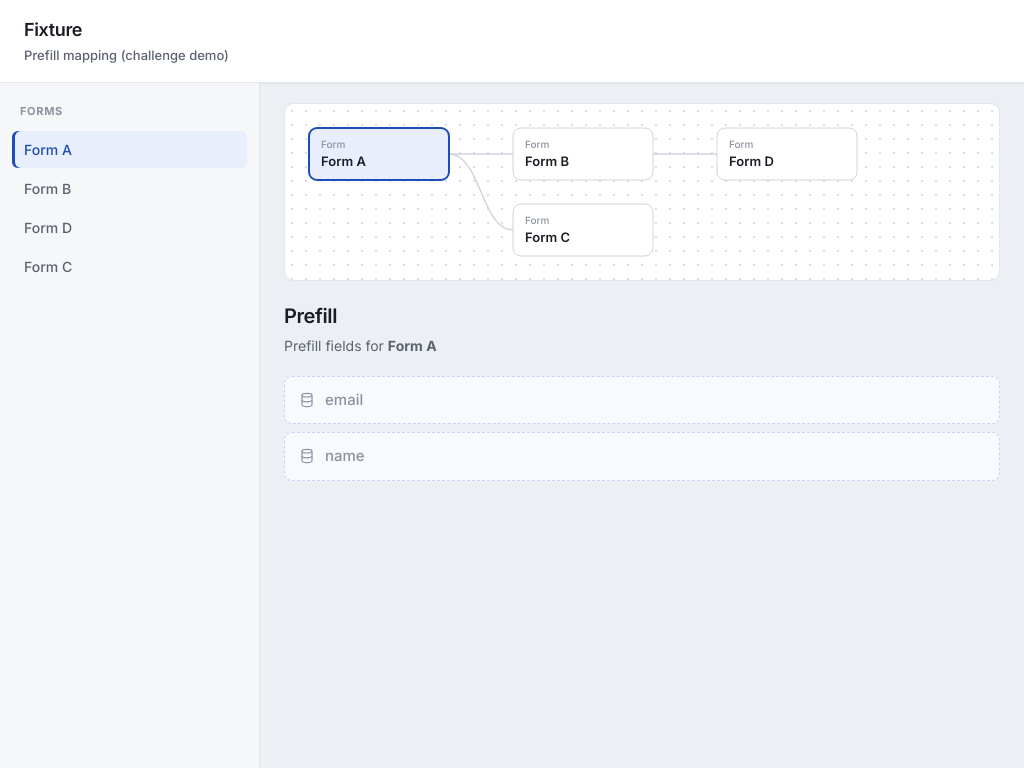
Test: App › sets and clears a prefill mapping via modal
Expected: the heading "Fixture" is shown, [24, 19, 82, 40]
Click the button "Form D": (130, 228) [12, 209, 247, 246]
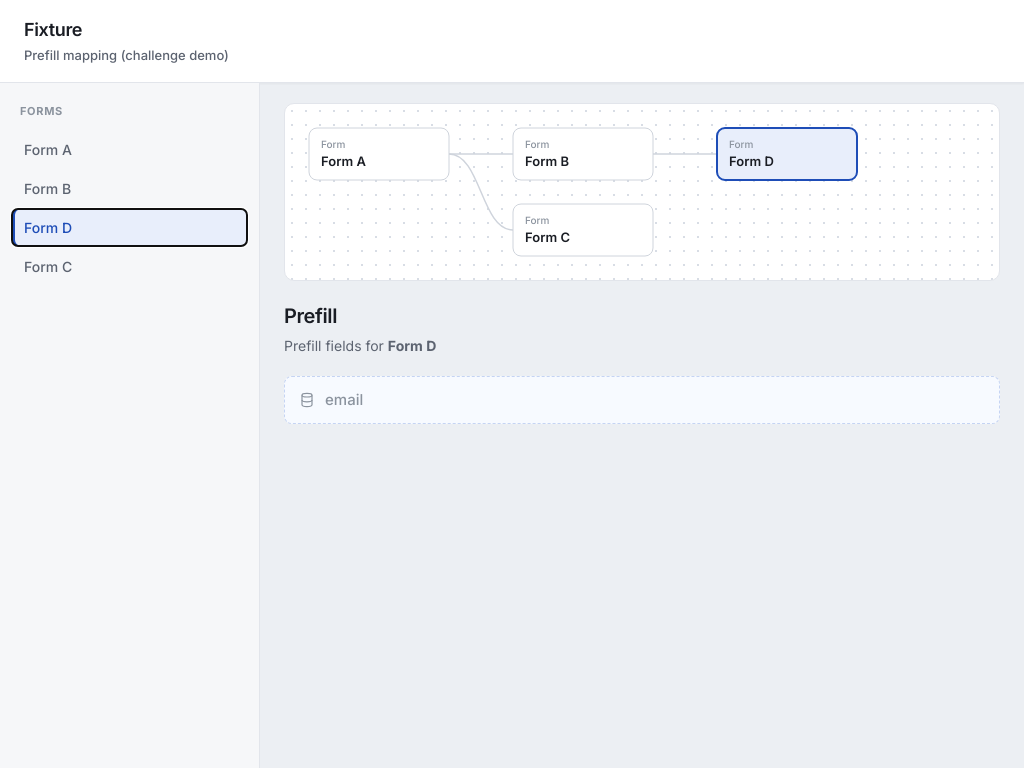
// Click the empty field row to open the modal.
Click the button with aria-label "Set prefill mapping for": (344, 399) [285, 377, 999, 423]
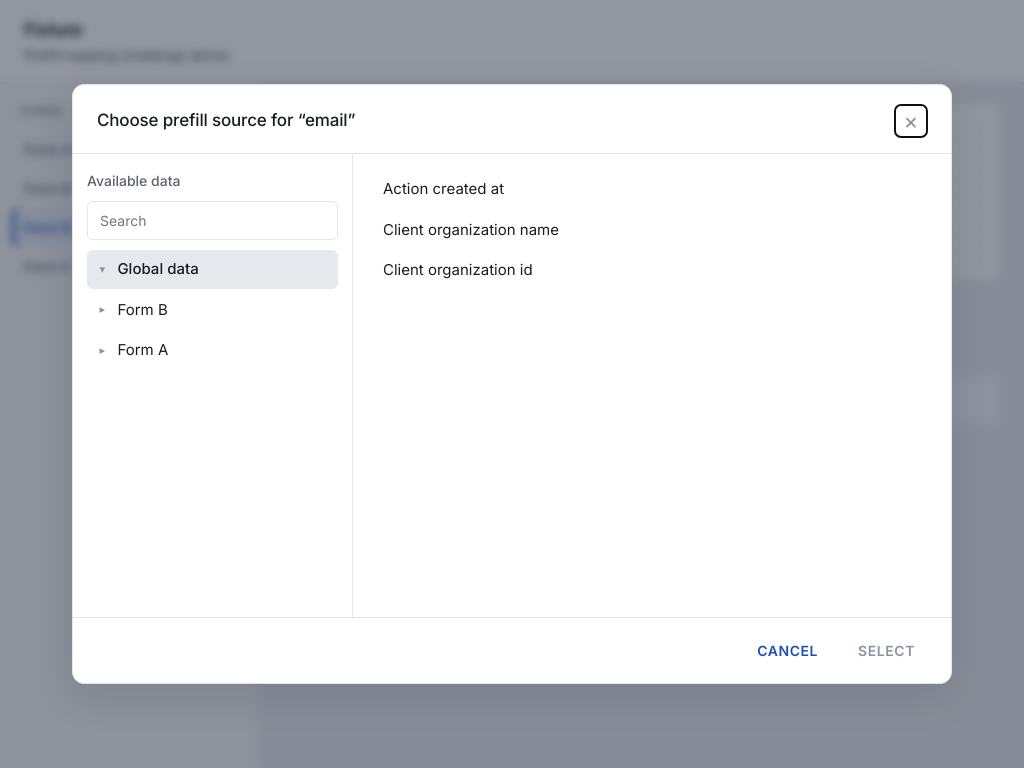
Expected: the dialog is shown
// Pick "Form A" category on the left.
Click the button "▸ Form A": (212, 350) [87, 331, 338, 370]
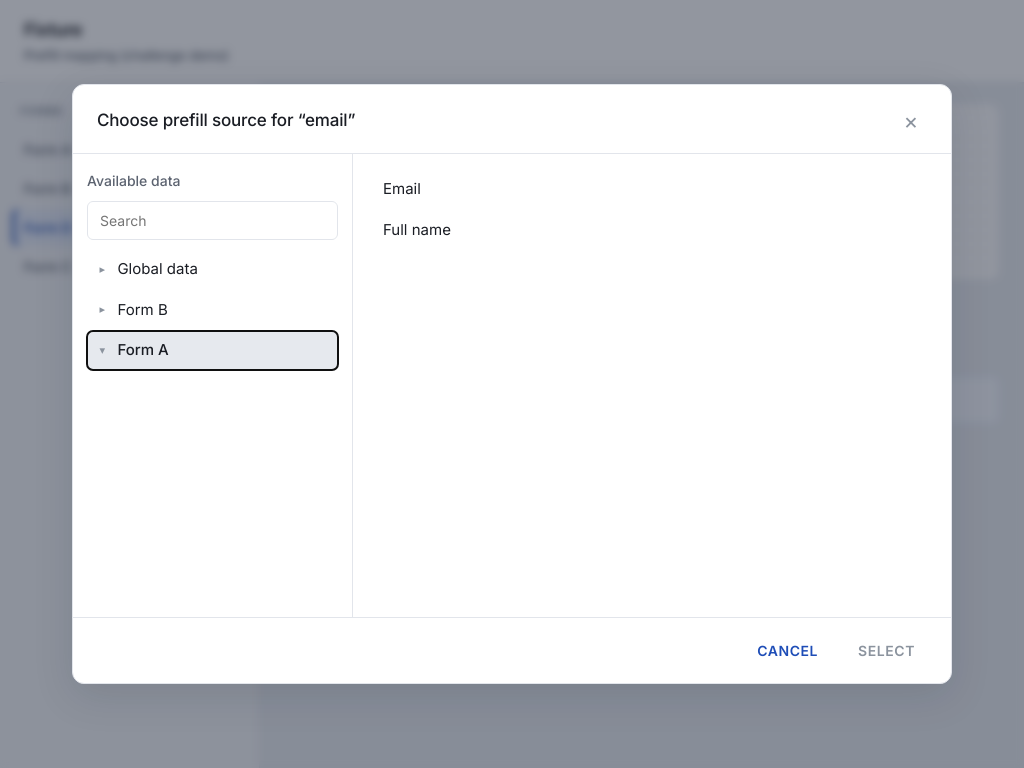
// Pick the email option on the right.
Click the button with aria-label "Form A / Email": (402, 188) [373, 170, 931, 208]
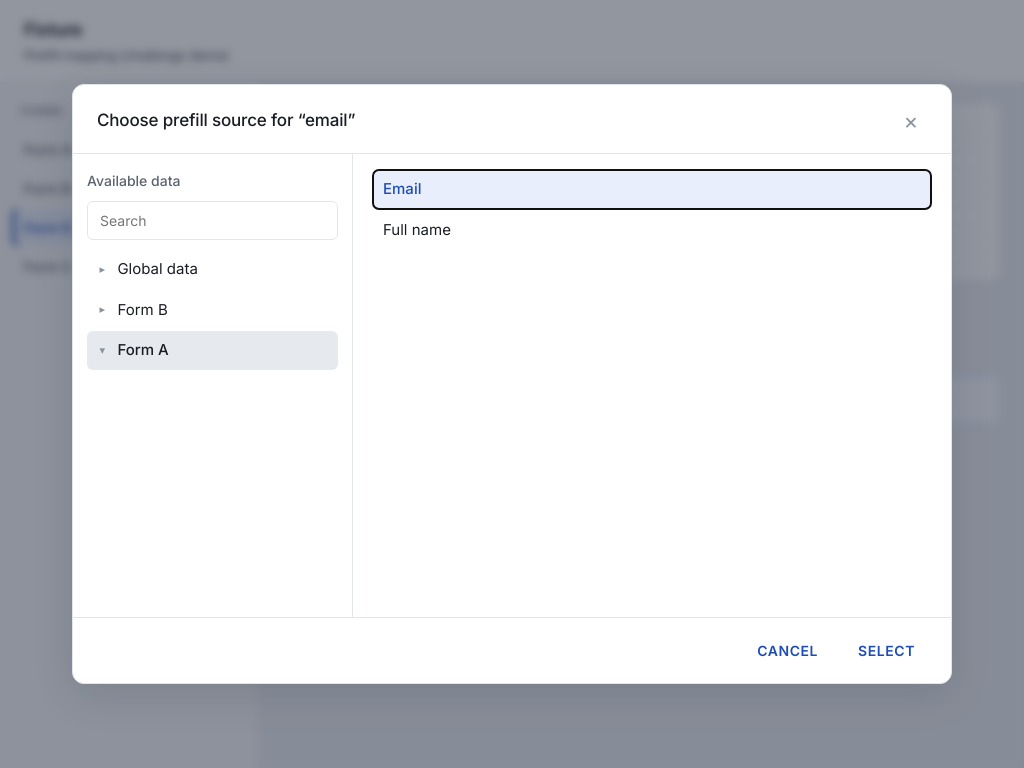
// Confirm with SELECT.
Click the button "SELECT": (887, 650) [842, 632, 931, 669]
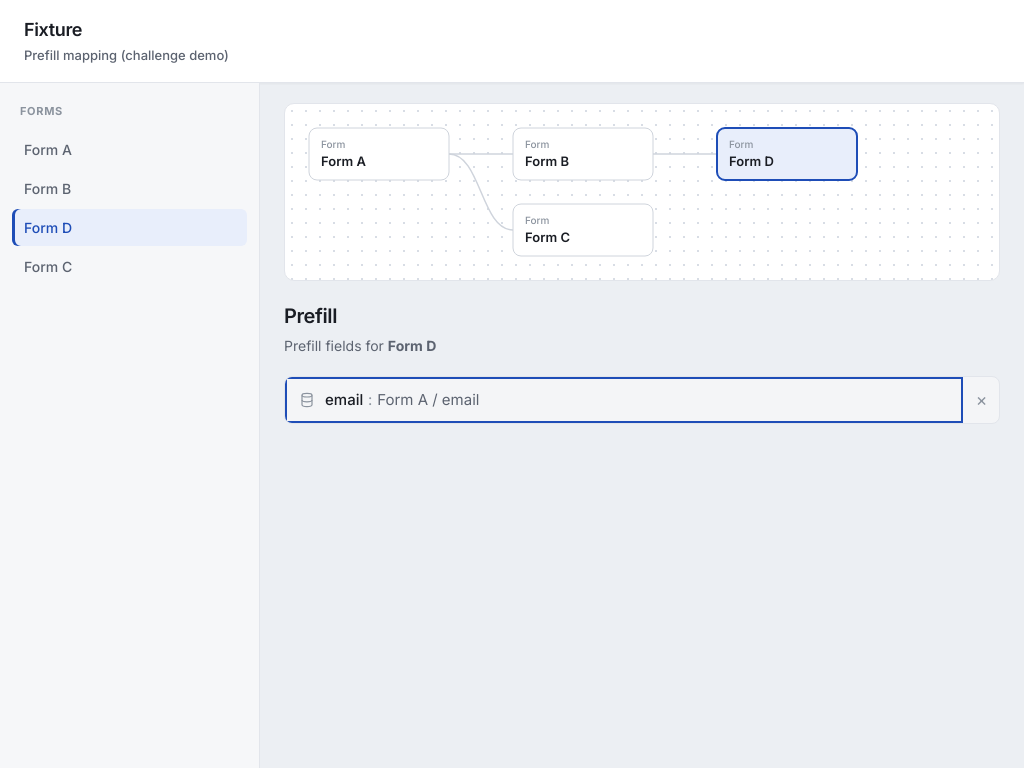
Expected: the dialog is gone
Expected: the text "Form A / email" is shown, [377, 389, 479, 411]
// Clear it.
Click the button named "Clear prefill for": (981, 400) [963, 377, 999, 423]
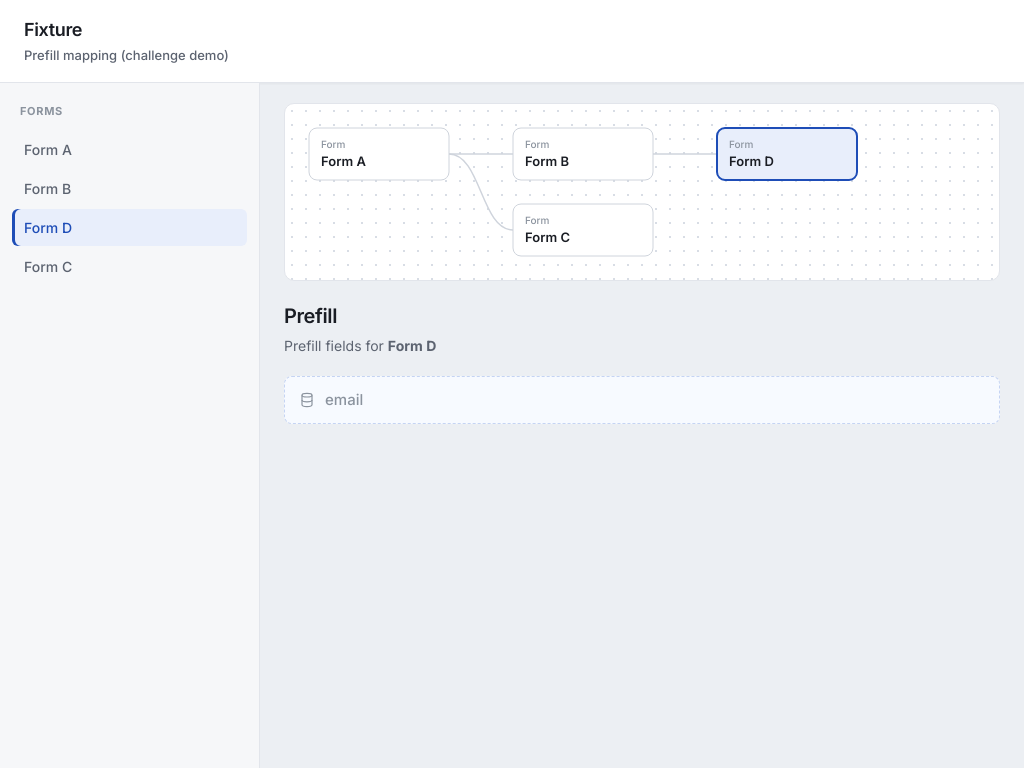
Expected: the text "Form A / email" is gone
